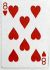eight: (1, 1, 48, 67)
